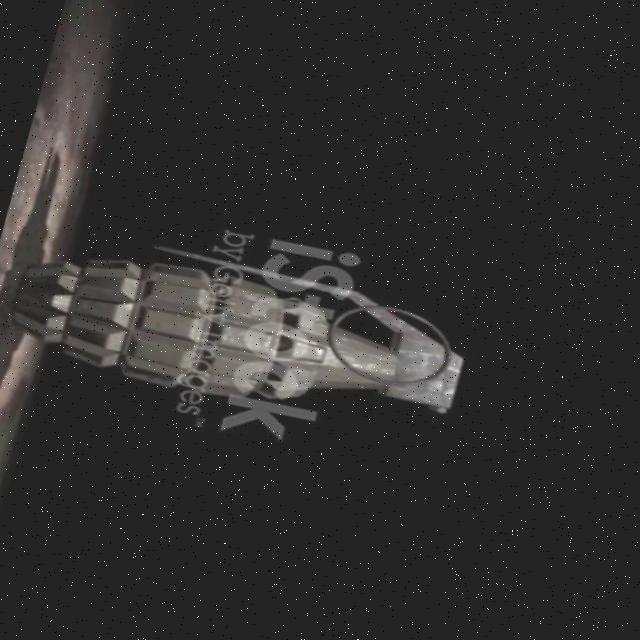grenade: (0, 201, 493, 463)
